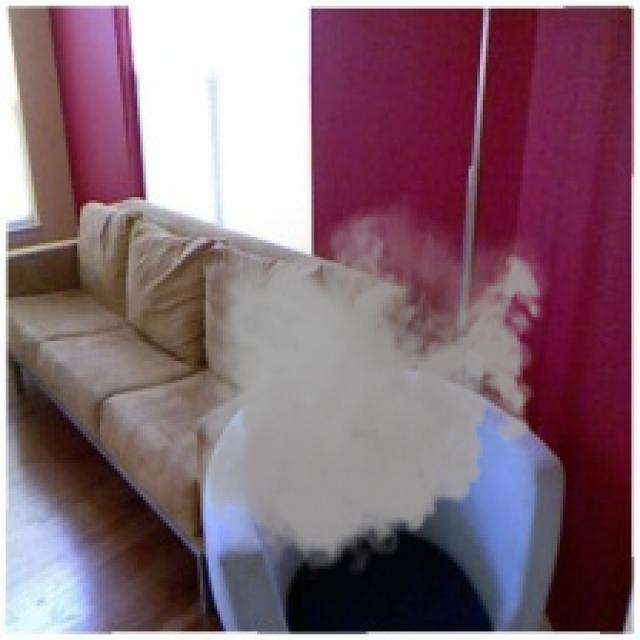Smoke: (186, 191, 554, 583)
